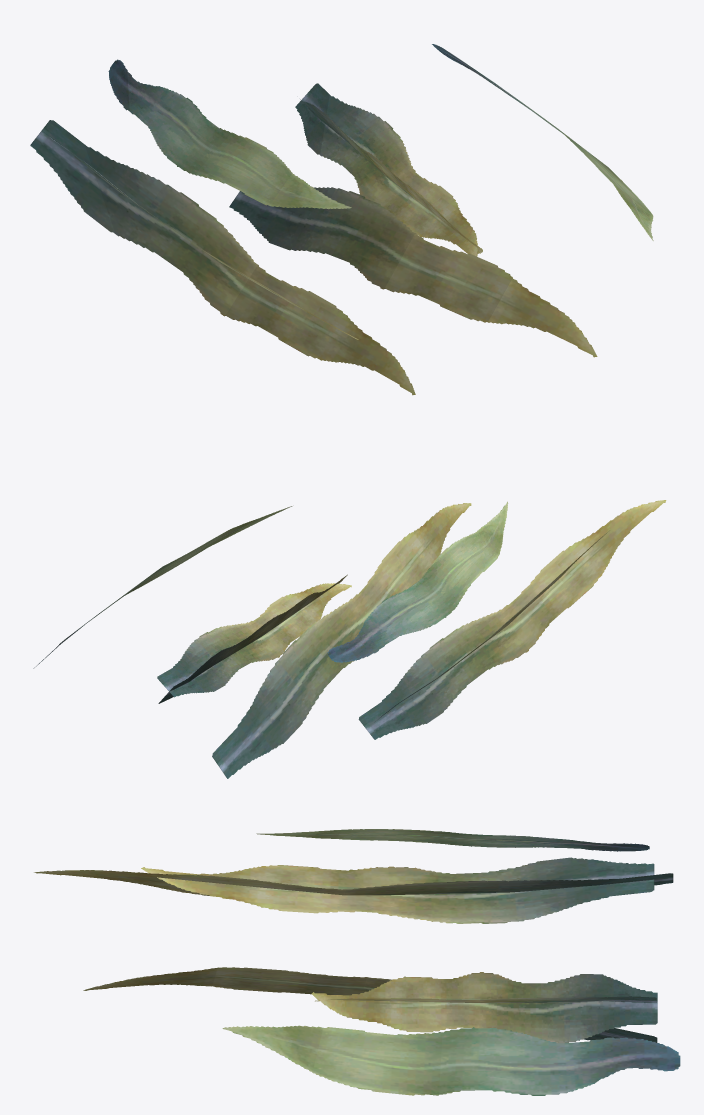
File: yatelandisi_dongxue_06_haizhiwu04.obj
3 renders of one model, top to bottom at view 1: azimuth 30°, elevation 25°; view 2: azimuth 150°, elevation 25°; view 3: azimuth 270°, elevation 25°, orthographic. The views are drawn at different scales.
Parts seen in each view (by area): view 1: yatelandisi_dongxue_06_haizhiwu04; view 2: yatelandisi_dongxue_06_haizhiwu04; view 3: yatelandisi_dongxue_06_haizhiwu04.
Part boxes in pixels (box(x1,y1,x2,y2)): yatelandisi_dongxue_06_haizhiwu04: box(30, 44, 653, 395); yatelandisi_dongxue_06_haizhiwu04: box(33, 500, 666, 778); yatelandisi_dongxue_06_haizhiwu04: box(34, 829, 680, 1095).
Size of the model in its own units: 139 by 67.87 by 204.
1 material, 1 textured.
